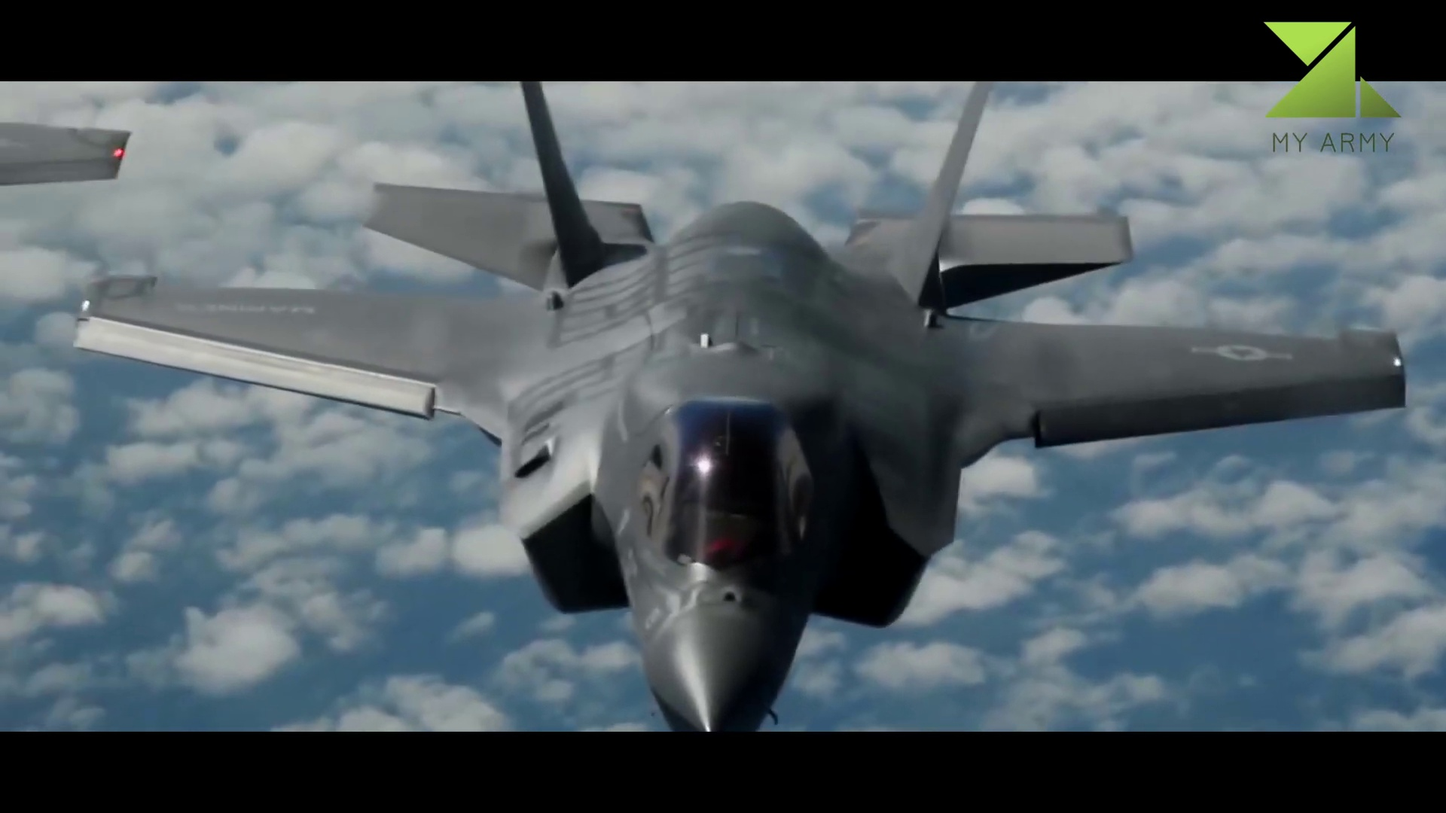F35: (64, 84, 1415, 728), (2, 120, 130, 188)
